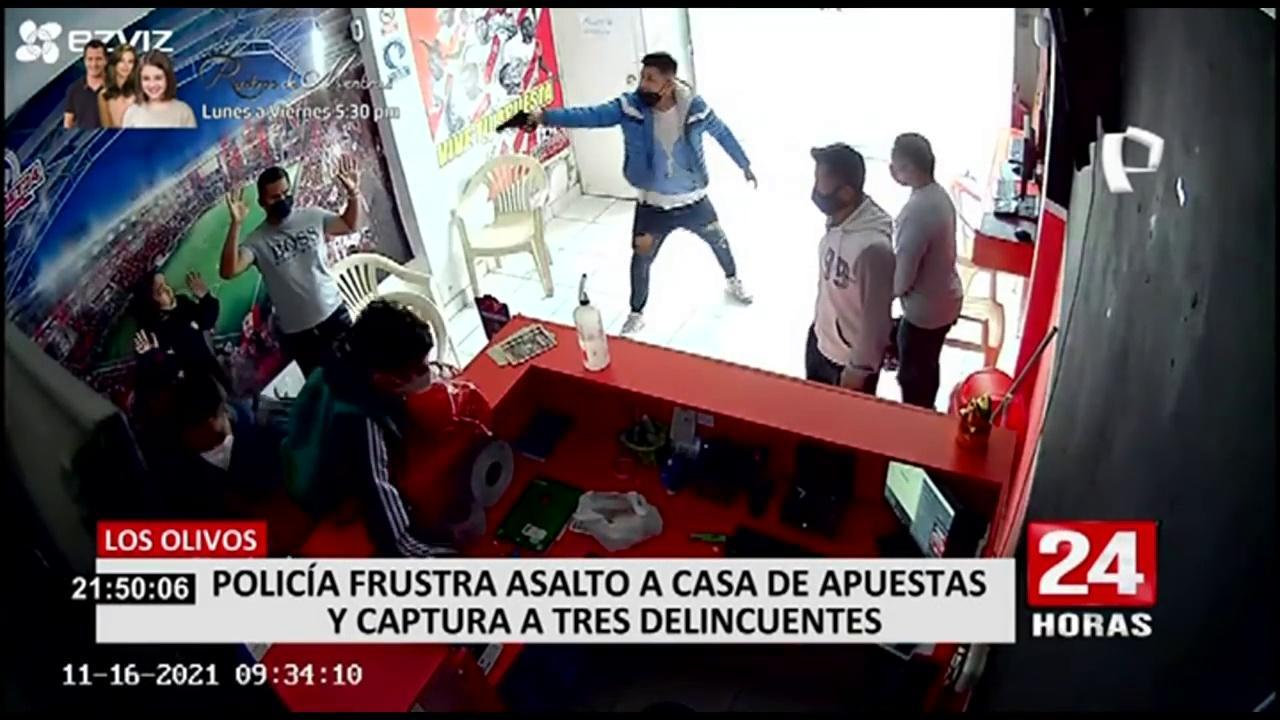Guns: (473, 95, 545, 150)
